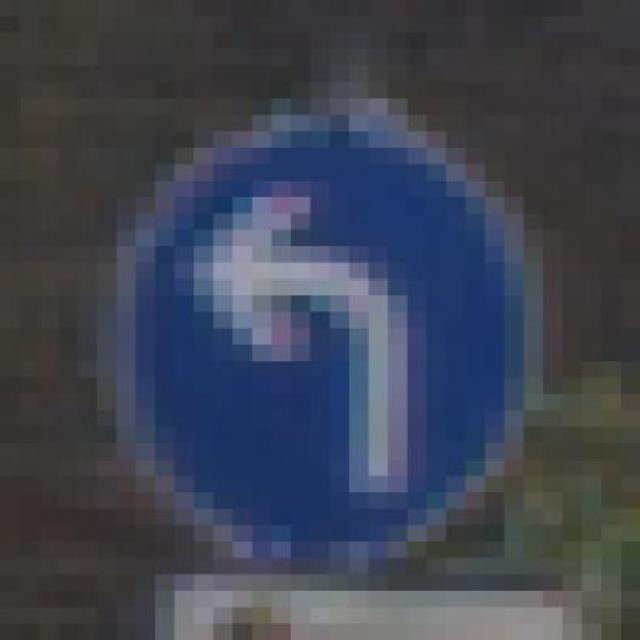Turn left ahead: (97, 99, 581, 558)
